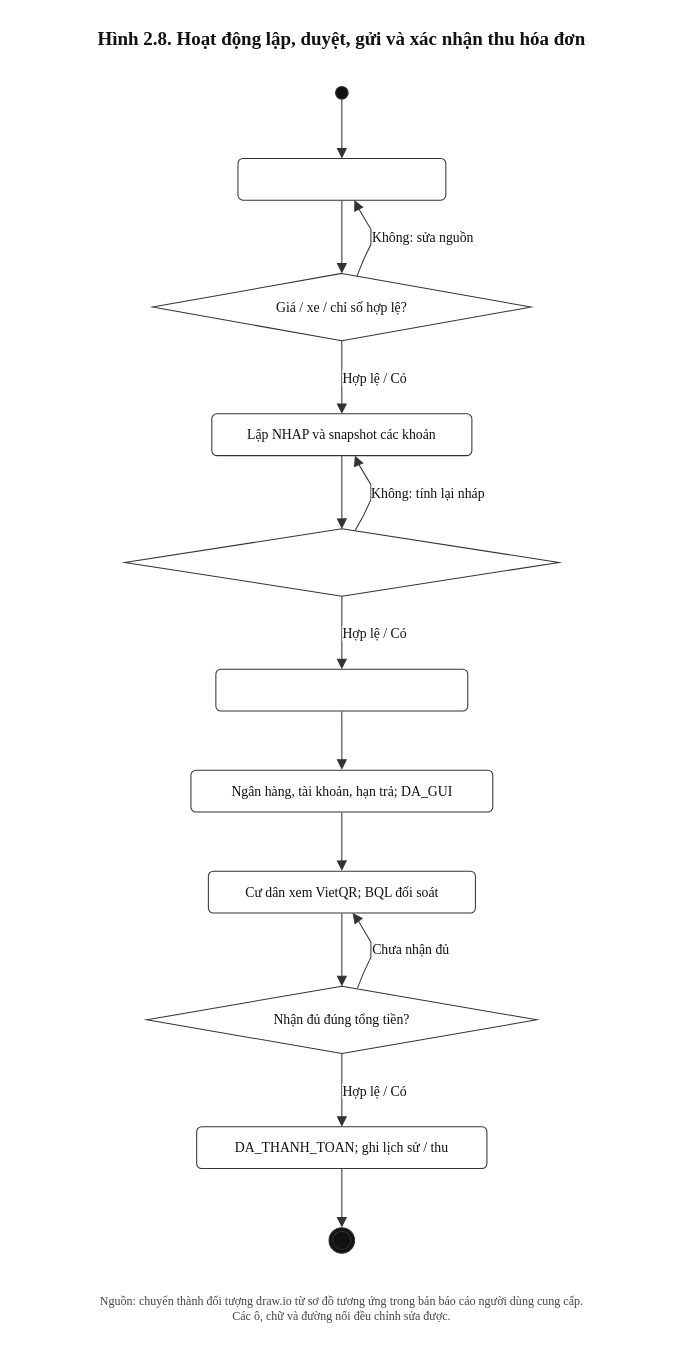
The diagram is 683 pixels wide and 1358 high, and some of its shapes have lost their labels. Each missing label, with the box of its shape:
Chọn căn, kỳ và ngày chốt: (237, 157, 446, 200)
DA_DUYET; cố định khoản tiền: (215, 668, 468, 711)
Nguồn còn khớp khi duyệt?: (124, 528, 559, 596)
